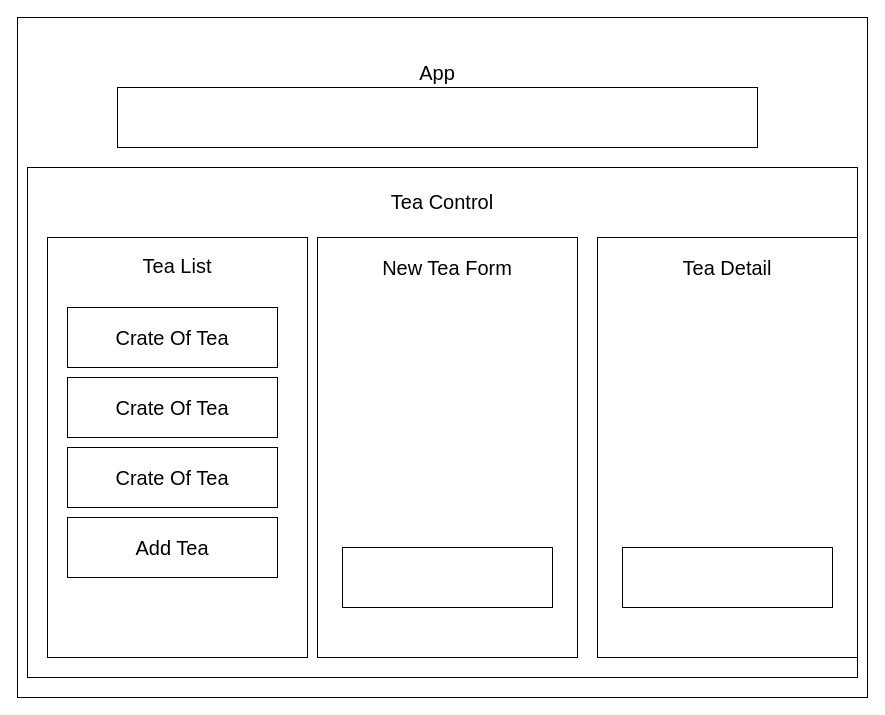
The diagram is 885 pixels wide and 715 high, and some of its shapes have lost their labels. Each missing label, with the centre of its shape:
Header: the point at 437,117
Submit: the point at 447,577
Update: the point at 727,577
